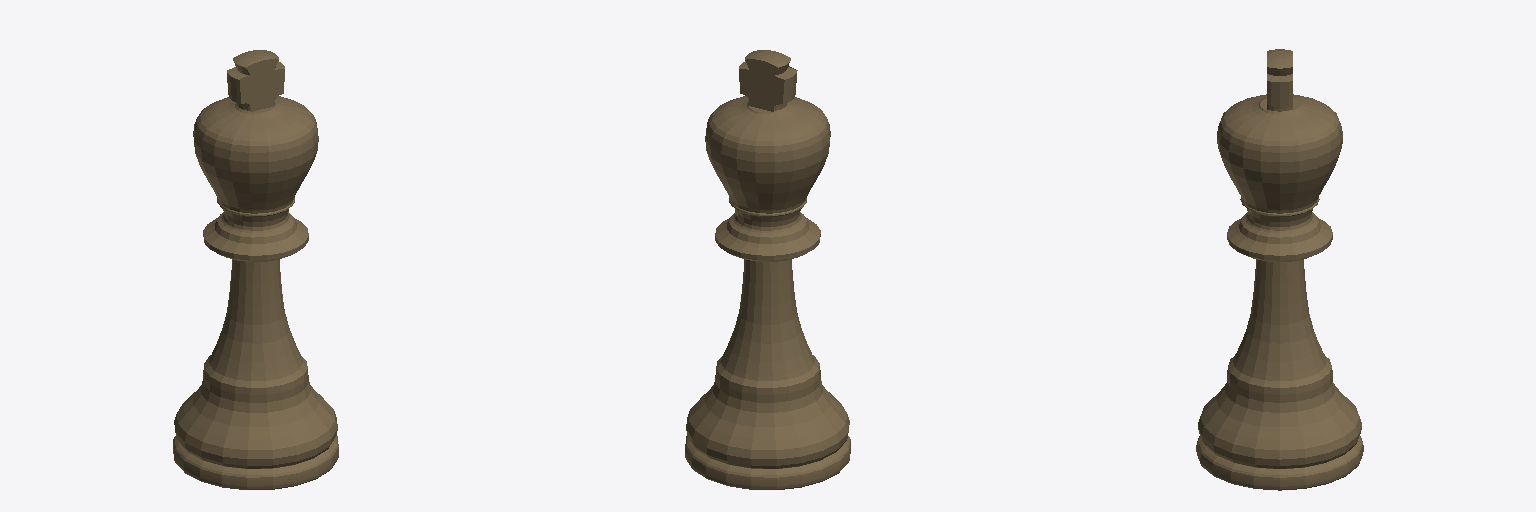
The model's file is reyBlanco.obj.
3 renders of one model, left to right at view 1: azimuth 30°, elevation 25°; view 2: azimuth 150°, elevation 25°; view 3: azimuth 270°, elevation 25°, orthographic.
Visible parts, largest first — view 1: body; view 2: body; view 3: body.
Boxes of the visible parts, box(x1,y1,x2,y2) form: body: box(173, 50, 338, 489); body: box(685, 50, 850, 489); body: box(1196, 49, 1363, 490).
Size of the model in its own units: 1.86 by 4.94 by 1.86.